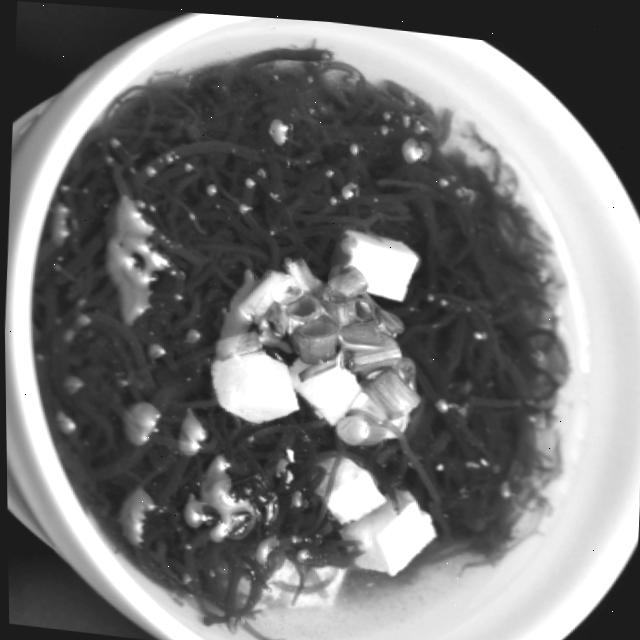蔬菜料理: (41, 17, 590, 640)
